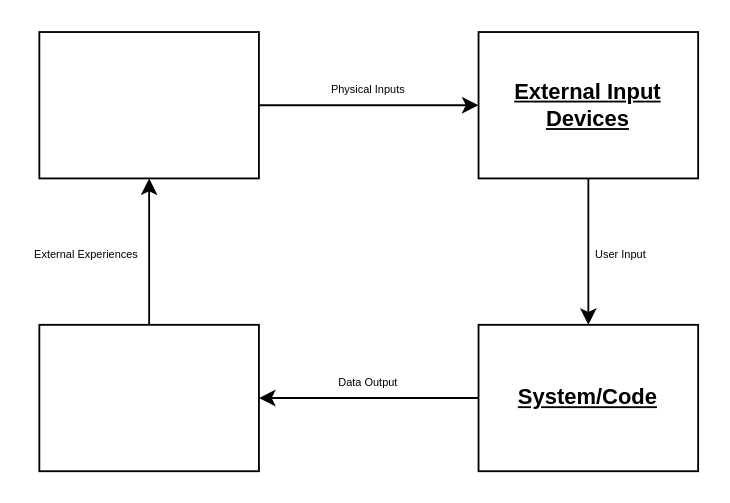
The diagram is 730 pixels wide and 503 high, and some of its shapes have lost their labels. The box of each missing label's shape, as (x1, y1, x2, y2) in pixels:
External Output Devices: (38, 323, 259, 471)
User: (38, 30, 259, 178)
